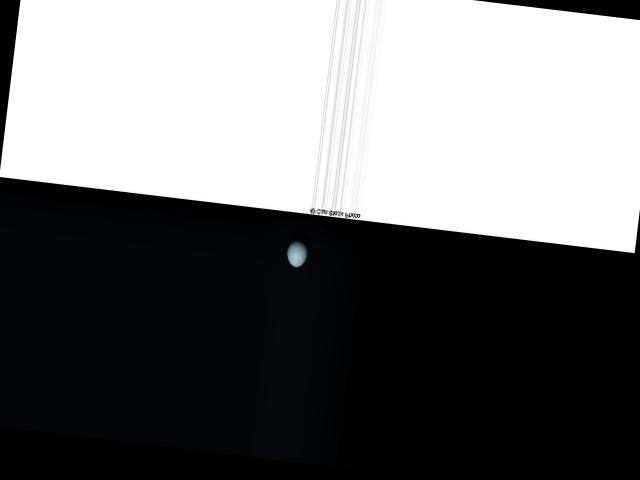egg: (285, 238, 309, 268)
